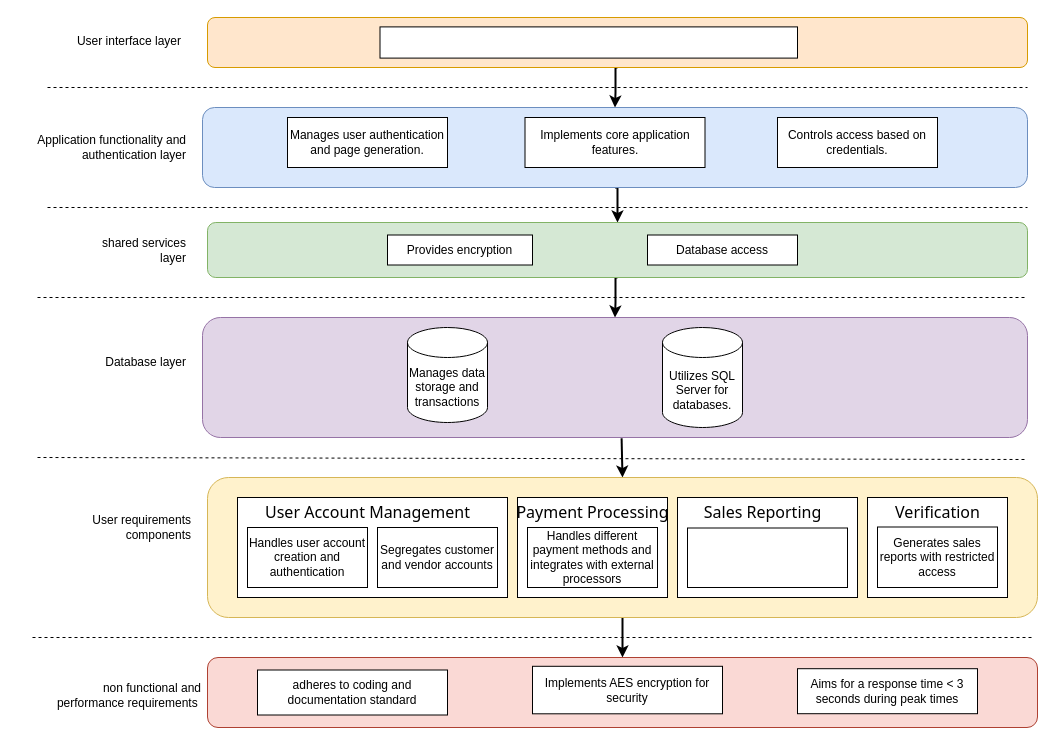
This 1055x745 diagram has some shape labels left out. The centre of each missing label's shape, as x and y in pixels:
"Manages vendor verification and validates identity through document uploads." belongs at pixel 767 557.
"Utilizes HTML, JavaScript, and supports mobile apps." belongs at pixel 588 42.
